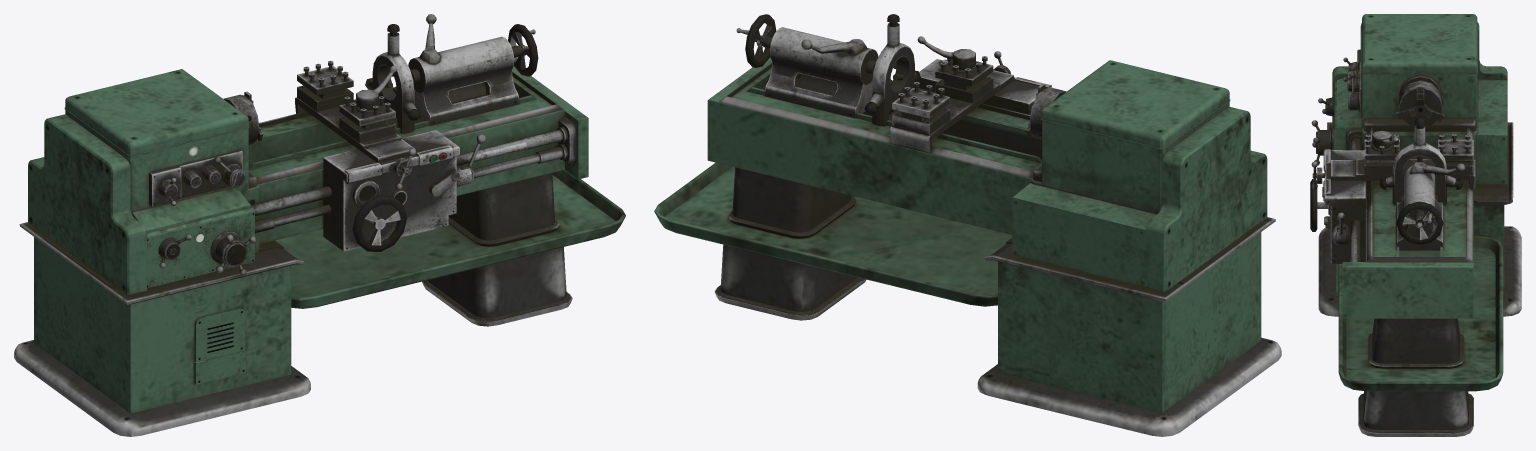
File: model.opt.glb
3 views of the same model, side by side, from view 1: azimuth 30°, elevation 25°; view 2: azimuth 150°, elevation 25°; view 3: azimuth 270°, elevation 25° (orthographic). The views are drawn at different scales.
Visible parts, largest first — view 1: defaultMaterial; view 2: defaultMaterial; view 3: defaultMaterial.
Boxes of the visible parts, x1=… form: defaultMaterial: x1=14, y1=14, x2=625, y2=436; defaultMaterial: x1=654, y1=14, x2=1281, y2=436; defaultMaterial: x1=1310, y1=14, x2=1521, y2=436.
Size of the model in its own units: 467 by 250 by 187.
Materials: 1 (1 with a texture image).
